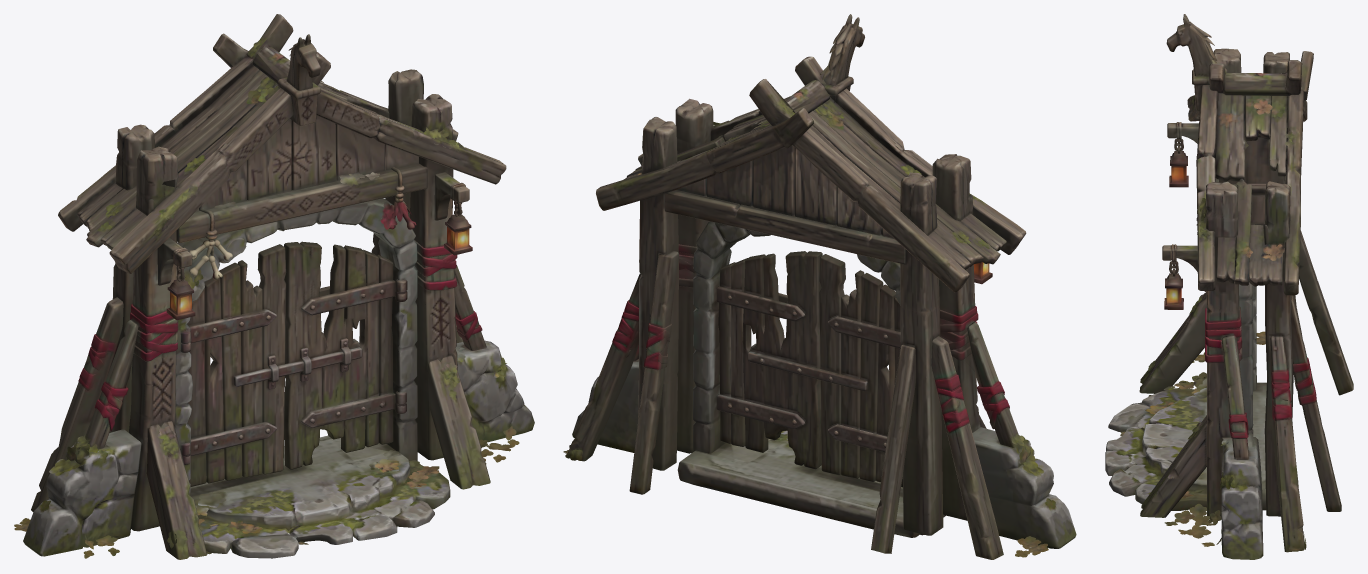
Rendered from gate_ruin.glb.
3 views of the same model, side by side, from view 1: azimuth 30°, elevation 25°; view 2: azimuth 150°, elevation 25°; view 3: azimuth 270°, elevation 25° (orthographic). The views are drawn at different scales.
Parts seen in each view (by area): view 1: gate_ruin_0; view 2: gate_ruin_0; view 3: gate_ruin_0.
Boxes of the visible parts, left/top/right/bottom form: gate_ruin_0: left=14, top=14, right=534, bottom=559; gate_ruin_0: left=563, top=14, right=1076, bottom=559; gate_ruin_0: left=1105, top=14, right=1353, bottom=559.
Size of the model in its own units: 0.9995 by 0.9214 by 0.4663.
1 material, 1 textured.
